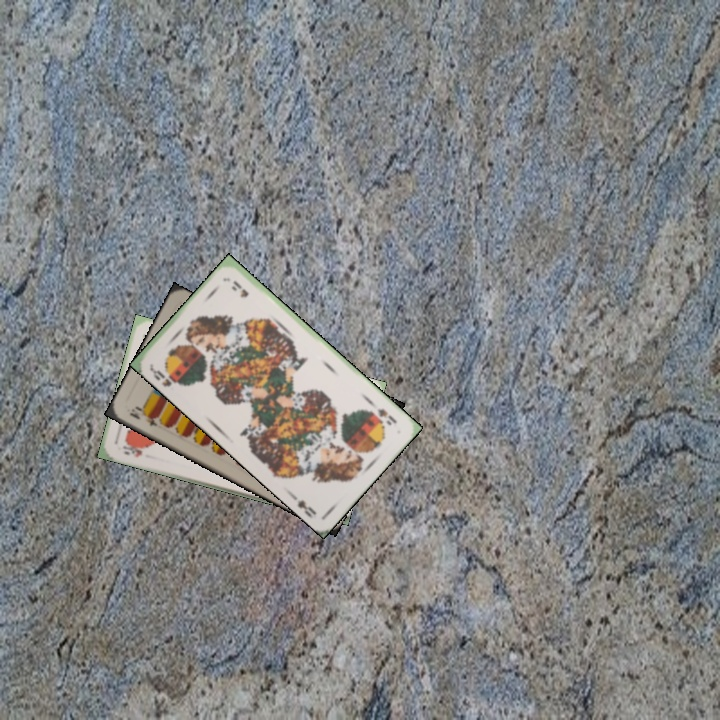E10: (125, 404, 160, 429)
HO: (119, 440, 145, 460)
SO: (146, 361, 185, 389), (373, 404, 399, 428)
